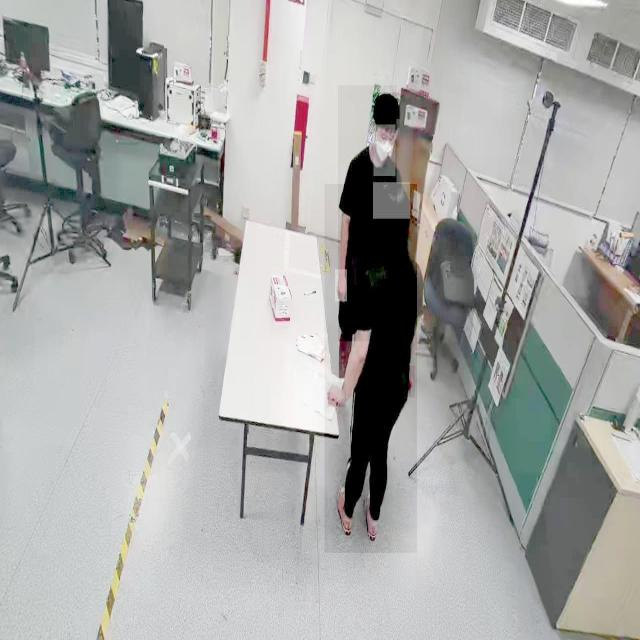face_mask: (374, 124, 396, 176)
hand_noglove: (326, 382, 346, 408), (335, 270, 347, 302), (406, 366, 415, 398)
head_nohelmet: (373, 182, 411, 220), (372, 92, 400, 120)
person: (324, 184, 418, 554), (338, 86, 397, 342)
shoes: (360, 483, 386, 546), (332, 479, 356, 543)
